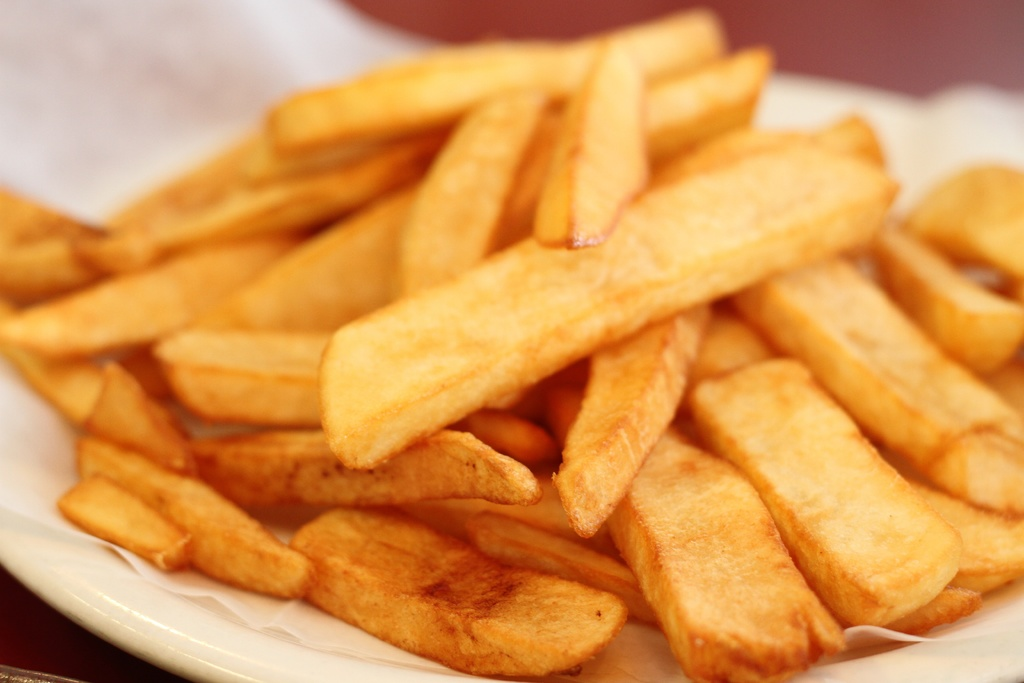French fries: (3, 8, 977, 668)
